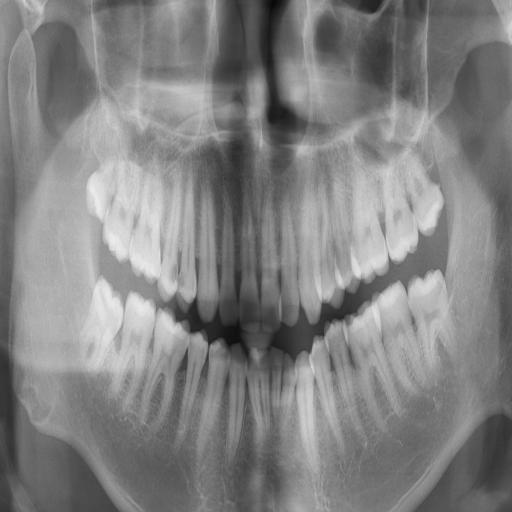Wisdom teeth: (81, 277, 123, 370), (409, 270, 449, 365), (406, 163, 443, 235), (88, 163, 114, 221)
